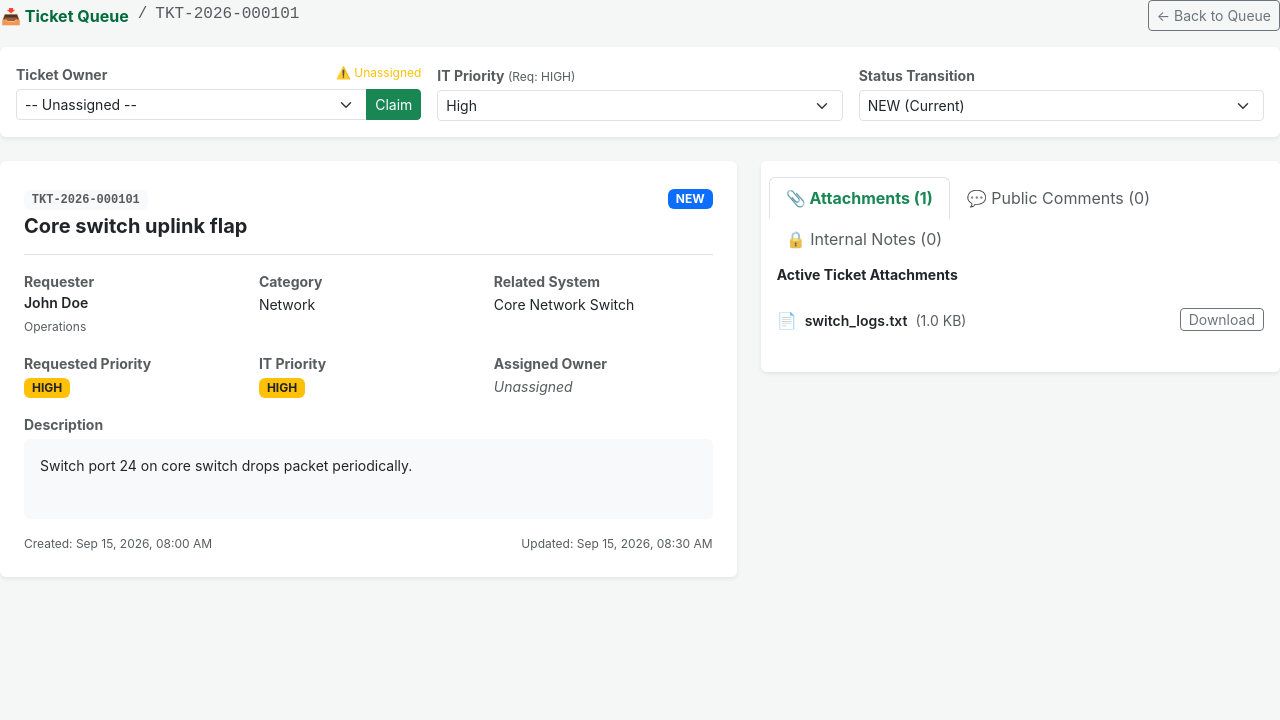
UI-04: IT Staff Ticket Detail & Operational Controls Component Tests › prompts confirmation modal before transitioning to terminal status (RESOLVED/CLOSED)
The image size is (1280, 720).
Select "➔ CANCELLED" in the dropdown with test id "status-transition-select" at coordinates (1061, 106), box [859,90,1264,121]
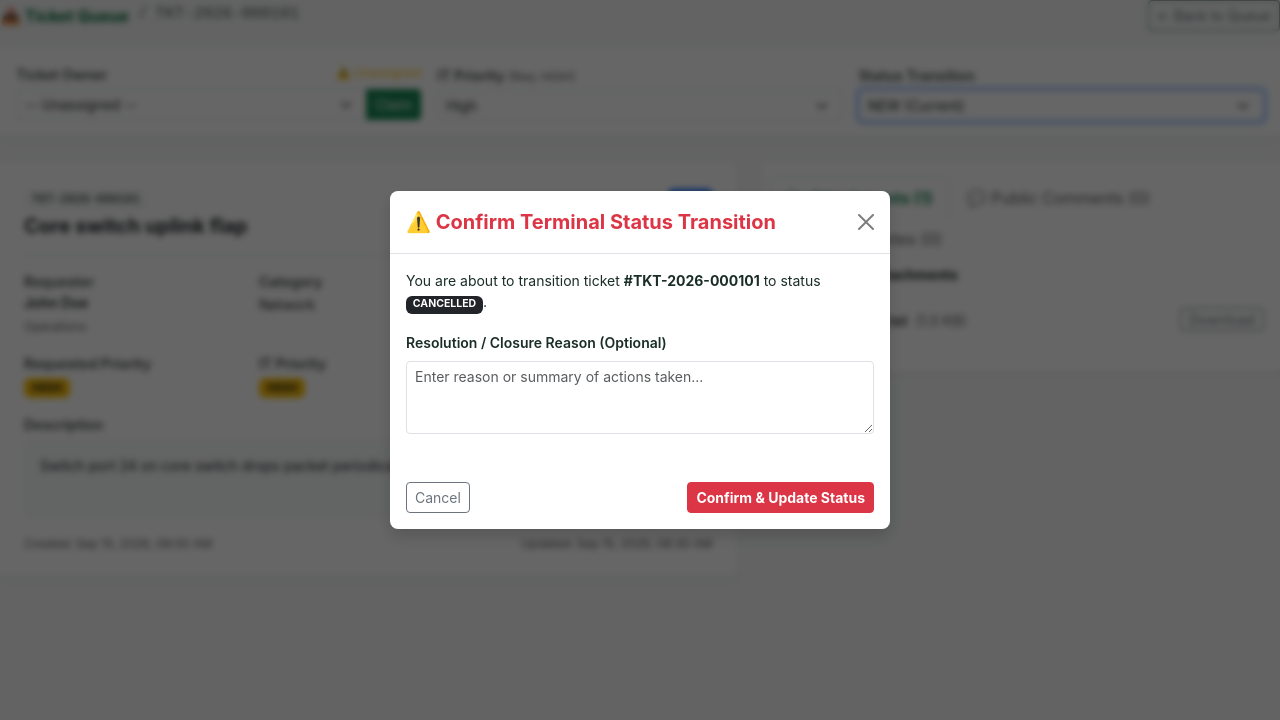
expect the dialog with test id "terminal-status-modal" is shown: met
expect the button with test id "confirm-terminal-btn" is shown: met
Click the button with test id "confirm-terminal-btn" at coordinates (781, 497), box [687,482,874,513]
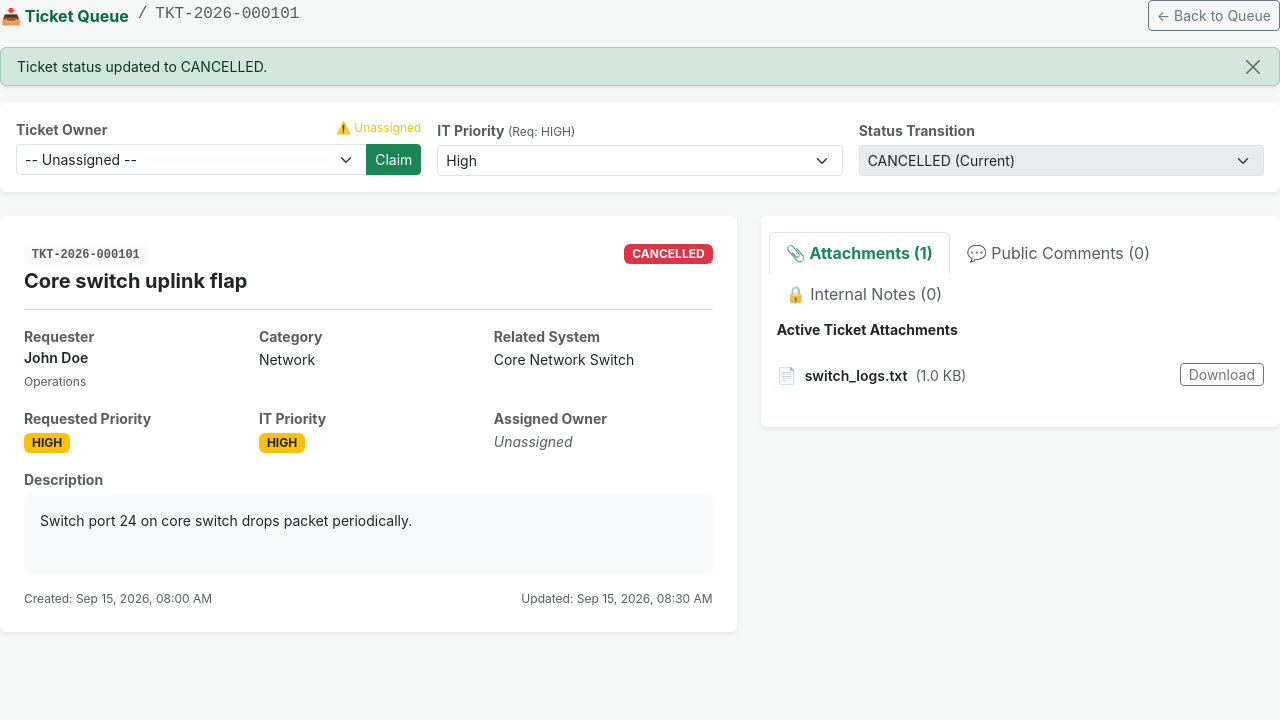
expect the dialog with test id "terminal-status-modal" is gone: met
expect the text "Ticket status updated to CANCELLED." is shown: met, box [17,56,267,77]
